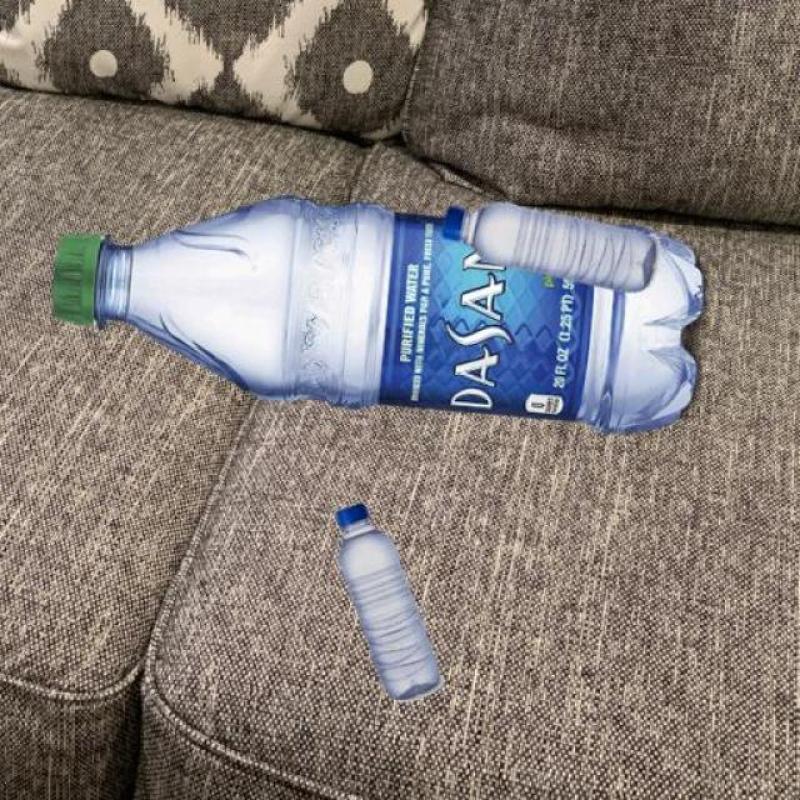botella: (50, 195, 706, 436), (441, 196, 661, 294), (335, 503, 443, 702)
